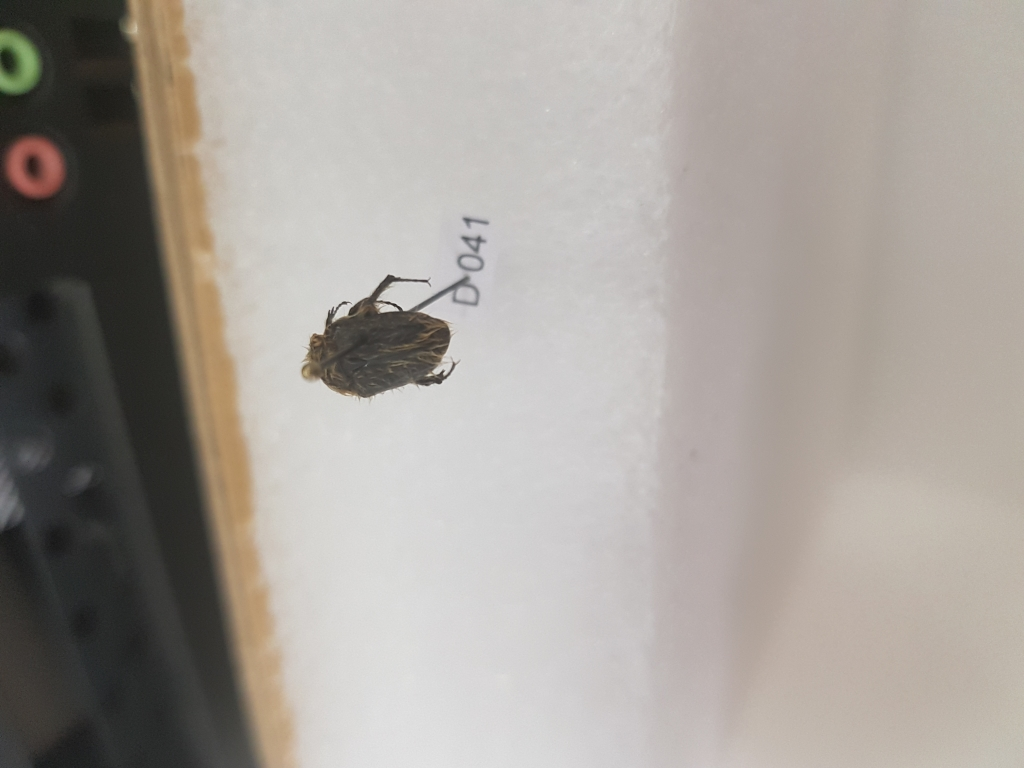Tropinota_senicula: (304, 268, 482, 406)
